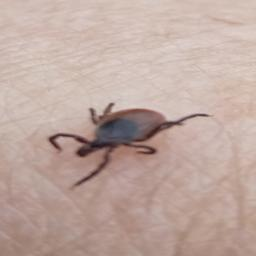Ixodes scapularis: (48, 101, 214, 189)
